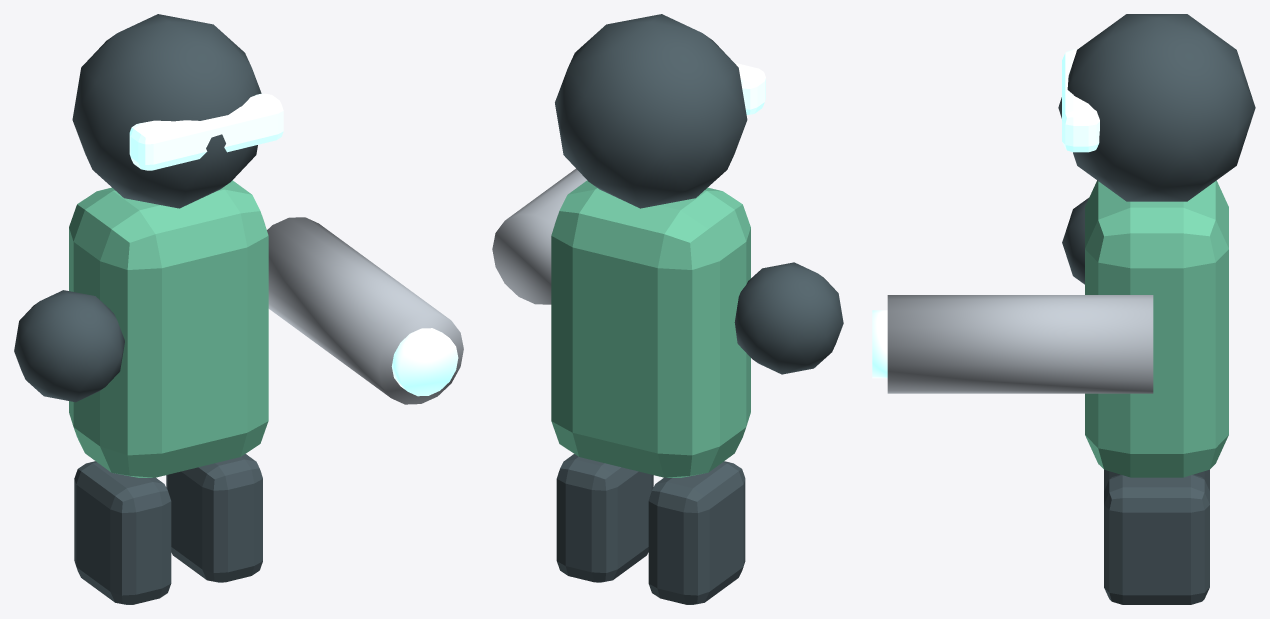
File: shooter.glb
3 views of the same model, side by side, from view 1: azimuth 30°, elevation 25°; view 2: azimuth 150°, elevation 25°; view 3: azimuth 270°, elevation 25° (orthographic).
Parts seen in each view (by area): view 1: Cube, Icosphere, Cylinder, Cube.002, Cube.003, Icosphere.001, Cube.001, Cylinder.001; view 2: Cube, Icosphere, Cube.002, Cube.003, Icosphere.001, Cylinder, Cube.001; view 3: Cube, Icosphere, Cylinder, Cube.003, Cube.001, Icosphere.001, Cylinder.001.
Part boxes in pixels (bbox=[...]): Cube: bbox=[69, 180, 268, 477]; Icosphere: bbox=[72, 14, 261, 208]; Cylinder: bbox=[267, 217, 463, 404]; Cube.002: bbox=[74, 461, 171, 604]; Cube.003: bbox=[166, 454, 262, 582]; Icosphere.001: bbox=[14, 290, 124, 402]; Cube.001: bbox=[129, 93, 283, 170]; Cylinder.001: bbox=[391, 328, 458, 396]; Cube: bbox=[551, 180, 750, 477]; Icosphere: bbox=[555, 14, 747, 208]; Cube.002: bbox=[648, 461, 745, 604]; Cube.003: bbox=[556, 454, 653, 582]; Icosphere.001: bbox=[734, 262, 843, 374]; Cylinder: bbox=[492, 168, 586, 304]; Cube.001: bbox=[734, 62, 765, 115]; Cube: bbox=[1085, 180, 1228, 477]; Icosphere: bbox=[1058, 14, 1255, 201]; Cylinder: bbox=[887, 295, 1153, 393]; Cube.003: bbox=[1104, 474, 1209, 604]; Cube.001: bbox=[1062, 49, 1099, 152]; Icosphere.001: bbox=[1062, 197, 1089, 284]; Cylinder.001: bbox=[872, 310, 887, 378].
Bounding box in the file's own units: 0.9927 × 1.62 × 1.01.
